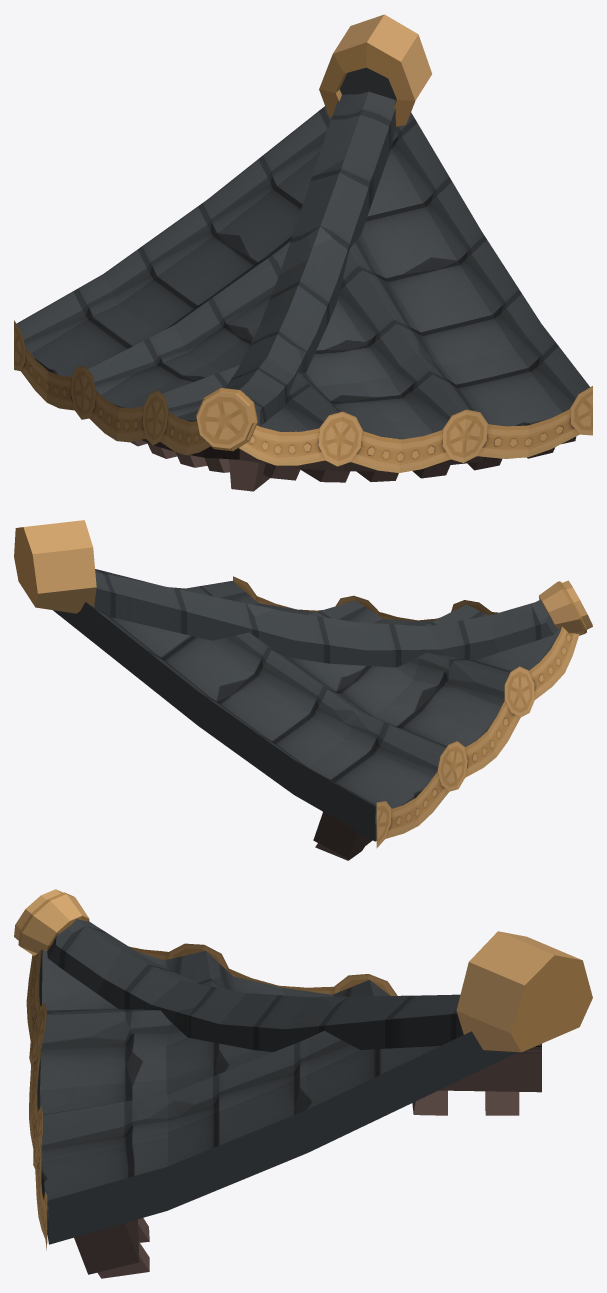
File: SM_Bld_Roof_Edge_Corner_01.fbx
3 renders of one model, top to bottom at view 1: azimuth 30°, elevation 25°; view 2: azimuth 150°, elevation 25°; view 3: azimuth 270°, elevation 25°, orthographic. The views are drawn at different scales.
Parts seen in each view (by area): view 1: SM_Bld_Roof_Edge_Corner_01; view 2: SM_Bld_Roof_Edge_Corner_01; view 3: SM_Bld_Roof_Edge_Corner_01.
Boxes of the visible parts, x1,y1,x2,y2 form: SM_Bld_Roof_Edge_Corner_01: (14, 14, 592, 491); SM_Bld_Roof_Edge_Corner_01: (14, 520, 592, 860); SM_Bld_Roof_Edge_Corner_01: (14, 889, 592, 1278).
Size of the model in its own units: 290 by 187 by 291.
